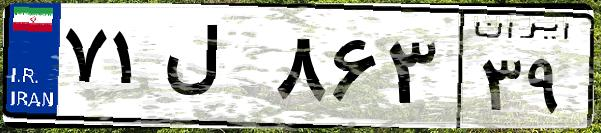1: (110, 28, 158, 98)
3: (385, 28, 445, 110), (475, 38, 525, 113)
6: (330, 28, 385, 110)
7: (57, 26, 110, 100)
8: (270, 28, 330, 110)
9: (525, 38, 570, 115)
ل: (158, 20, 270, 120)
